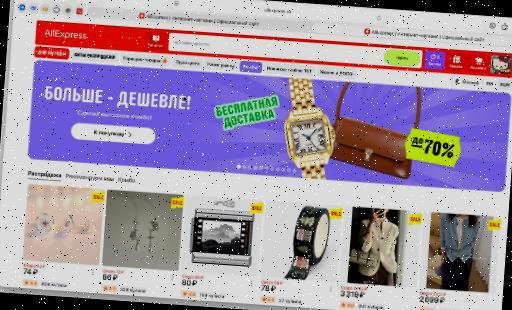aliexpress: (0, 13, 512, 310)
